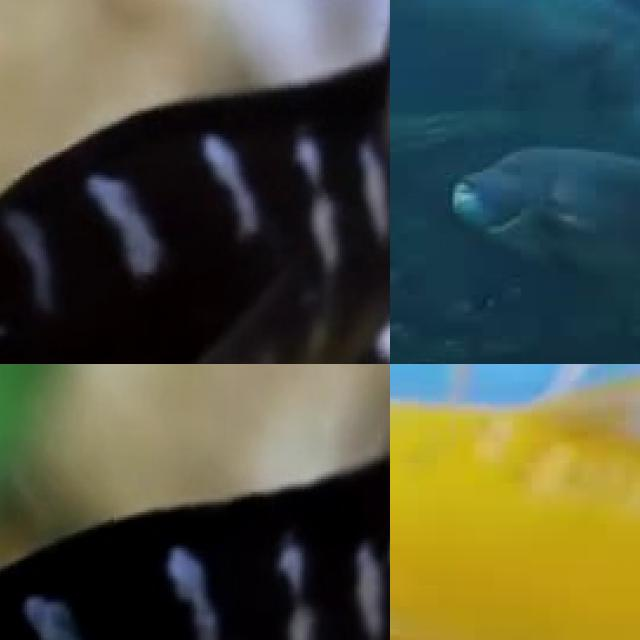fish: (0, 0, 390, 364), (0, 364, 390, 640)
